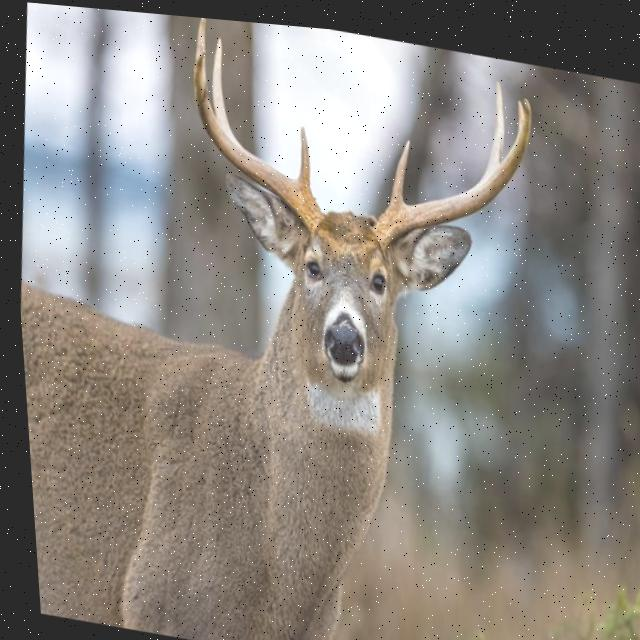L-F: (192, 46, 320, 231)
L-G1: (293, 119, 308, 184)
L-G2: (209, 31, 243, 144)
R-F: (368, 86, 530, 250)
R-G1: (382, 129, 409, 204)
R-G2: (476, 69, 504, 172)
